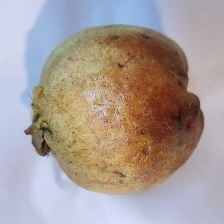guava: (40, 33, 178, 224)
